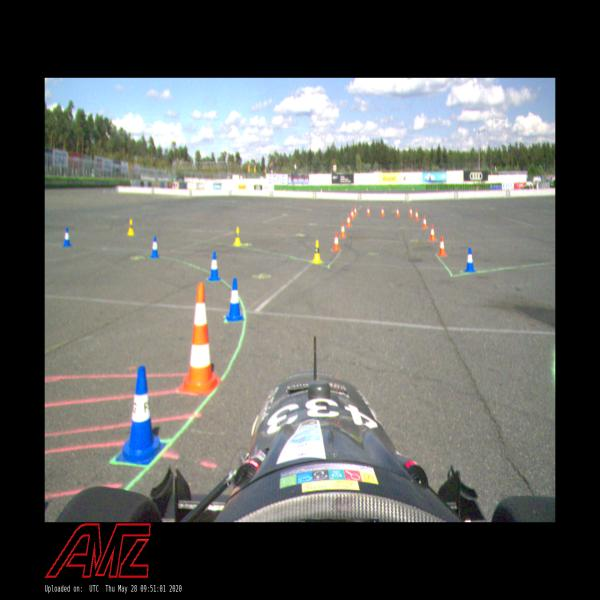blue_cone: (112, 363, 167, 468), (225, 277, 244, 320), (207, 252, 220, 282), (463, 247, 476, 272), (150, 235, 160, 257), (62, 225, 71, 247)
large_orange_cone: (180, 282, 218, 394)
orange_cone: (436, 237, 446, 258), (332, 232, 340, 252), (430, 222, 436, 244), (339, 221, 346, 238), (422, 216, 428, 230), (346, 214, 351, 228), (415, 208, 419, 224), (380, 207, 386, 217), (396, 206, 400, 218), (366, 205, 370, 217), (351, 208, 354, 221), (410, 205, 412, 218), (354, 205, 356, 217)
yellow_cone: (312, 239, 322, 263), (233, 227, 242, 245), (126, 219, 135, 234)
